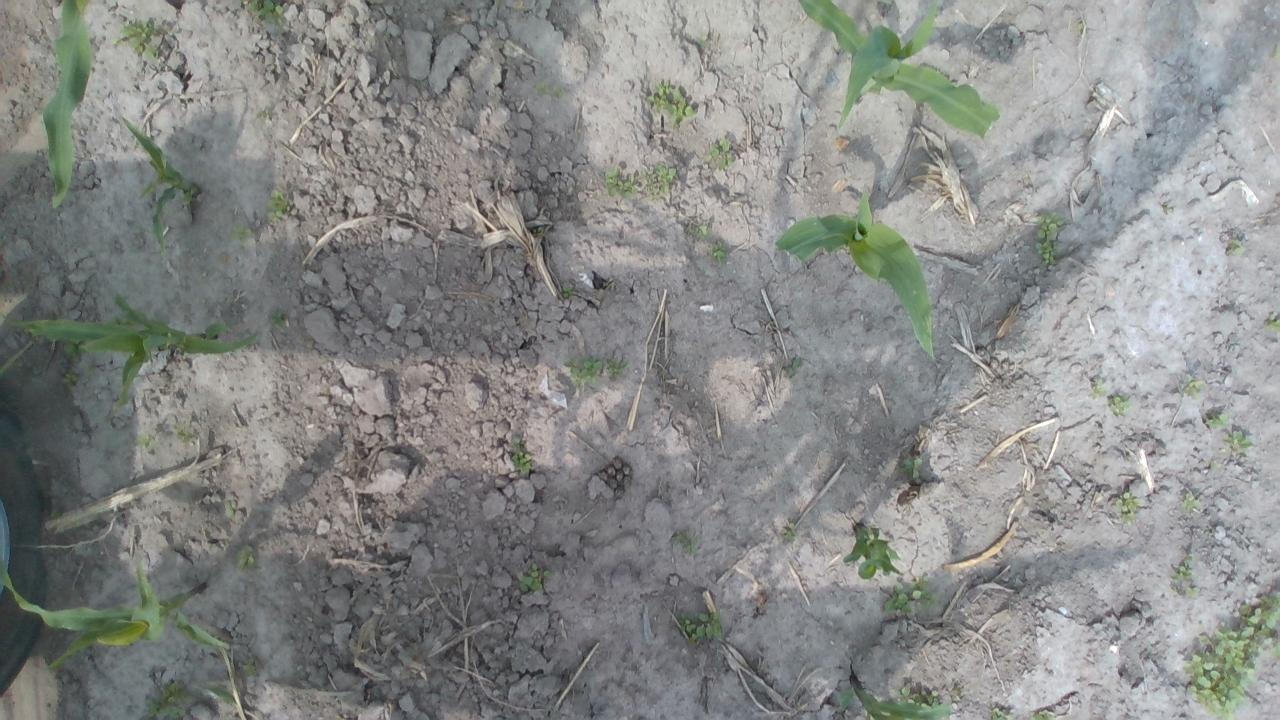Maize: (796, 0, 1007, 141), (774, 189, 940, 360), (2, 555, 232, 677), (10, 294, 262, 404), (117, 117, 204, 268), (44, 1, 91, 215), (848, 673, 958, 720), (844, 522, 904, 583)
Weeds: (1187, 594, 1280, 718), (114, 21, 166, 66), (571, 354, 631, 386), (609, 169, 674, 196), (1210, 415, 1252, 456), (652, 84, 698, 121), (886, 582, 932, 614), (684, 612, 726, 644), (1172, 554, 1199, 601), (1038, 215, 1062, 265), (149, 688, 185, 720), (711, 139, 734, 168), (268, 193, 288, 225), (1118, 489, 1140, 518), (673, 532, 699, 554), (522, 564, 542, 590), (904, 456, 921, 485), (512, 447, 530, 473), (1228, 235, 1248, 257), (1180, 378, 1202, 396), (238, 548, 255, 570), (260, 12, 288, 25), (786, 358, 804, 376), (1186, 492, 1202, 512), (1110, 397, 1128, 414), (140, 433, 158, 448), (991, 707, 1010, 720), (711, 246, 724, 264), (688, 225, 706, 238), (235, 224, 250, 239), (241, 660, 256, 675), (1035, 710, 1054, 720), (1091, 379, 1103, 394), (1269, 316, 1280, 332), (784, 530, 798, 542), (562, 282, 571, 300)
